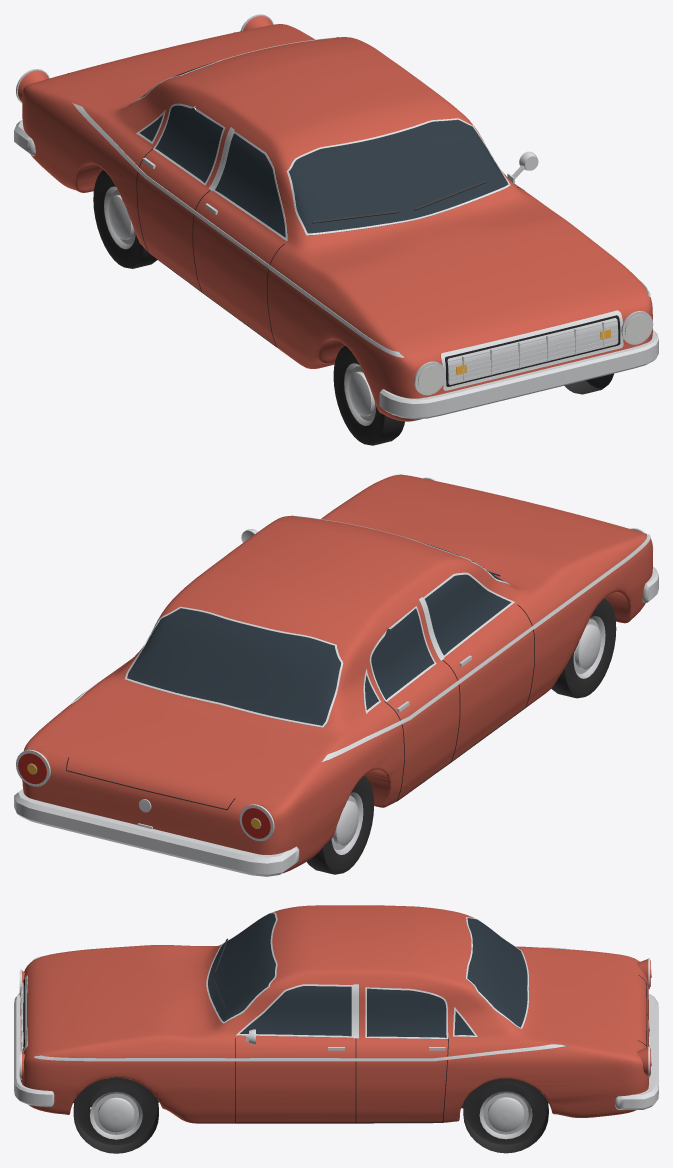
Rendered from falcon.glb.
The picture shows the model from 3 angles, top to bottom: view 1: azimuth 30°, elevation 25°; view 2: azimuth 150°, elevation 25°; view 3: azimuth 270°, elevation 25°; orthographic projection. The views are drawn at different scales.
Visible parts, largest first — view 1: paint, glass, trim, wheel_fr, wheel_rr, headlights; view 2: paint, glass, trim, wheel_fr, wheel_rr, taillights; view 3: paint, glass, trim, wheel_fl, wheel_rl.
Boxes of the visible parts, <box> form: paint: <box>22,24,652,421</box>; glass: <box>140,62,508,237</box>; trim: <box>14,14,658,419</box>; wheel_fr: <box>333,345,404,445</box>; wheel_rr: <box>93,170,157,268</box>; headlights: <box>418,314,650,392</box>; paint: <box>22,474,652,873</box>; glass: <box>127,542,510,725</box>; trim: <box>14,474,658,876</box>; wheel_fr: <box>551,598,616,698</box>; wheel_rr: <box>307,776,373,874</box>; taillights: <box>18,753,270,838</box>; paint: <box>20,905,648,1123</box>; glass: <box>208,913,527,1037</box>; trim: <box>14,912,658,1123</box>; wheel_fl: <box>73,1077,158,1153</box>; wheel_rl: <box>463,1078,548,1153</box>.
Bounding box in the file's own units: 1.88 × 1.39 × 4.6.
